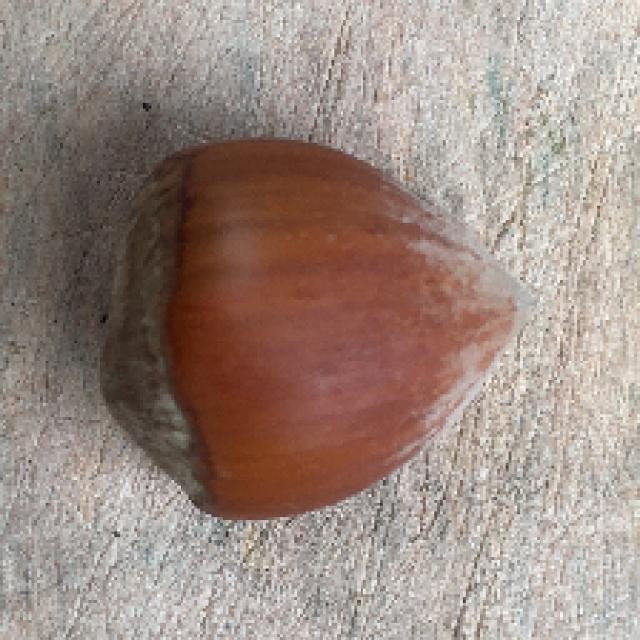qualityHazelnut: (84, 128, 532, 529)
